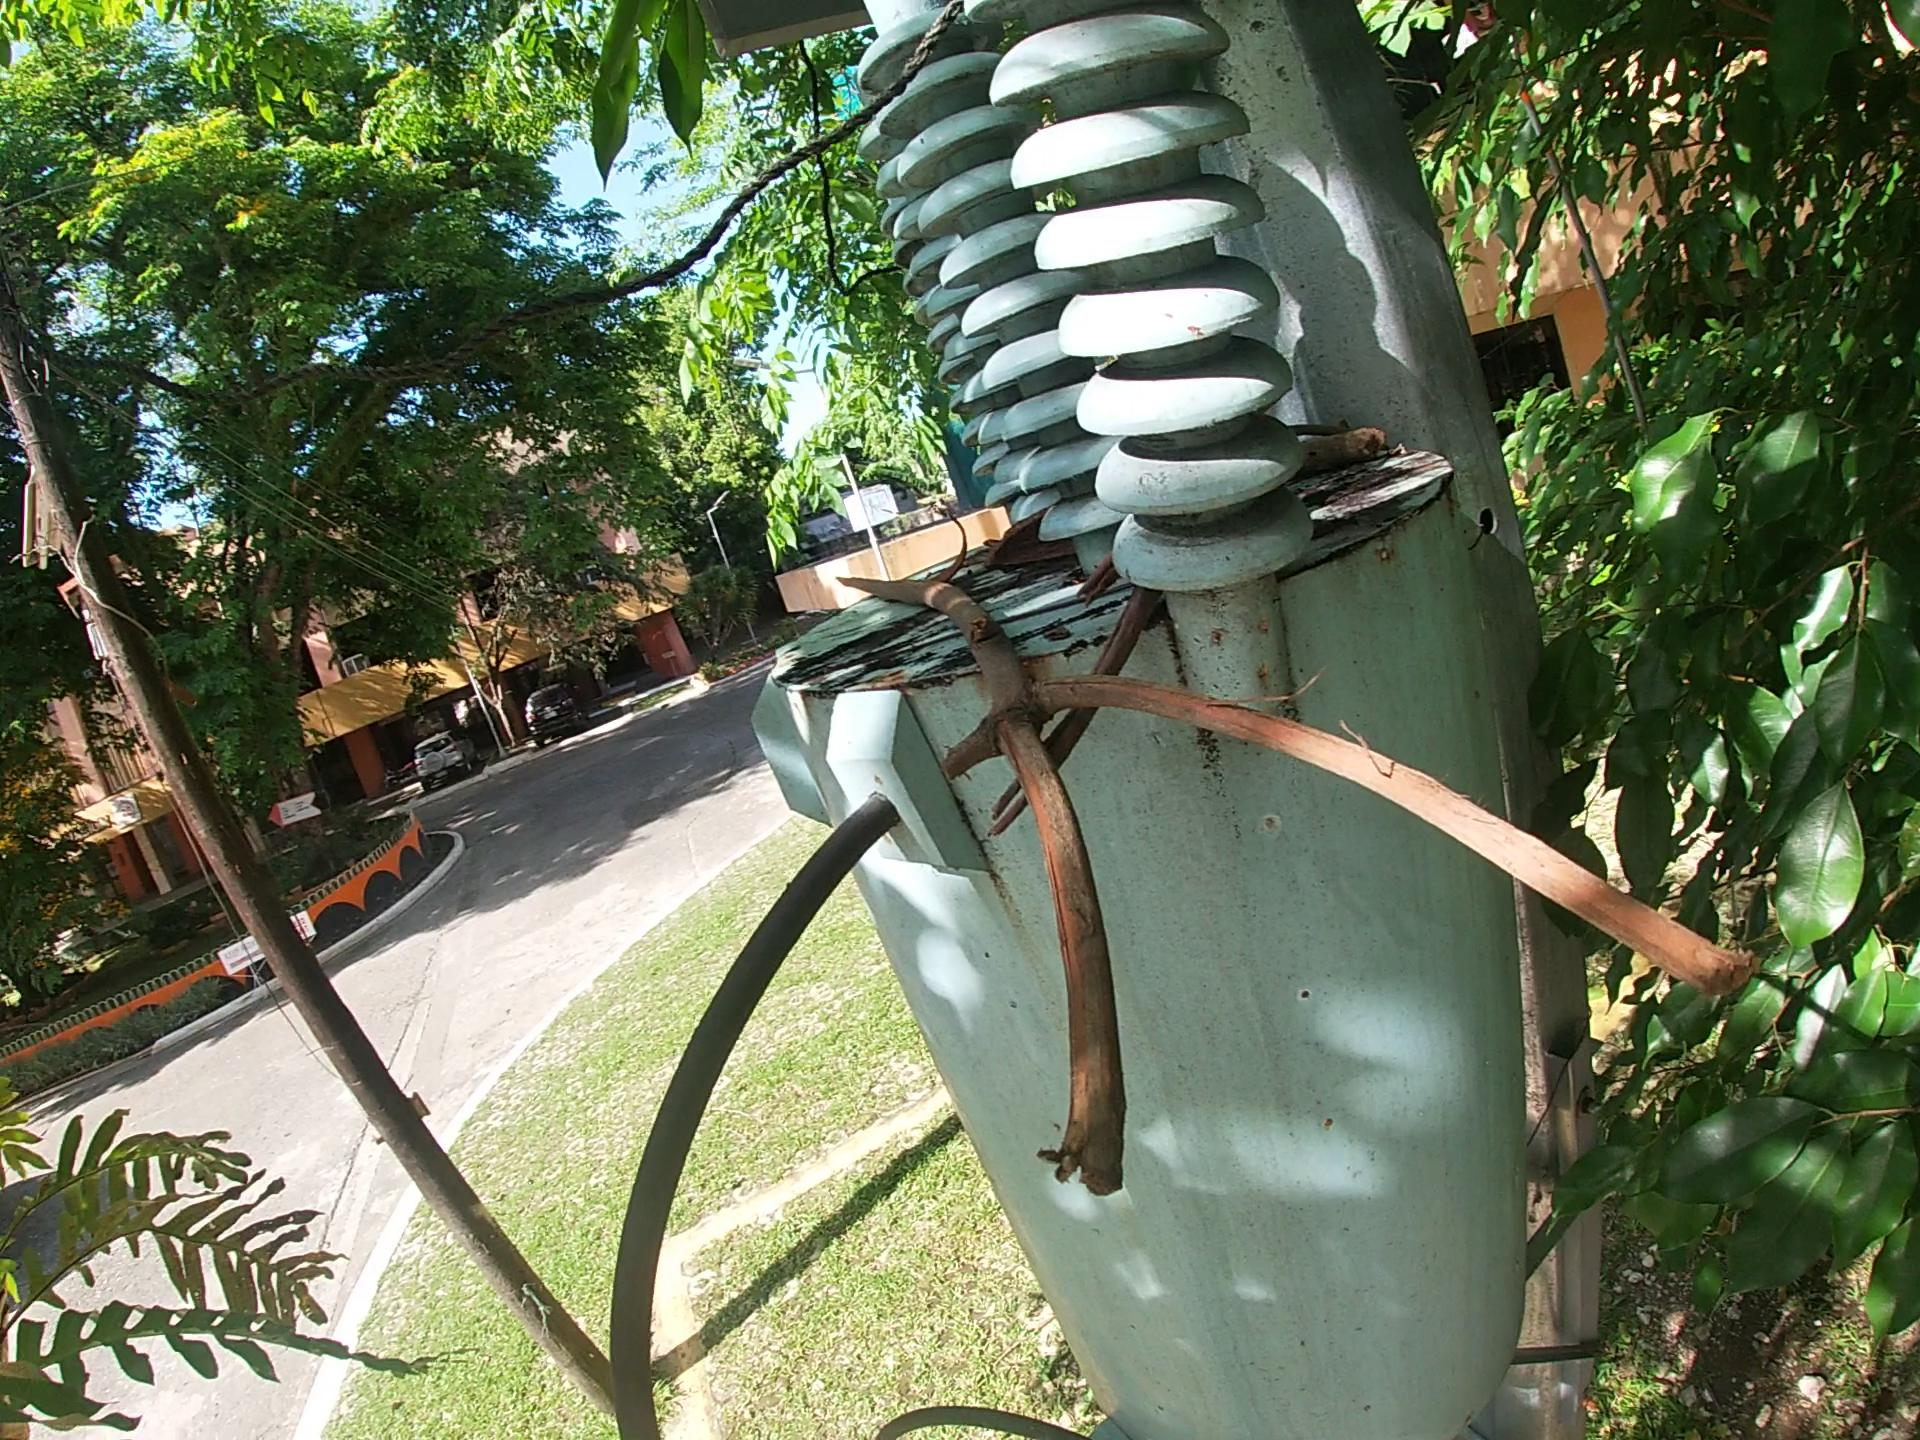mahogany fruit: (980, 505, 1081, 587), (940, 513, 971, 585)
tree branch: (828, 566, 1764, 1198), (978, 548, 1178, 855), (1296, 427, 1395, 478)
